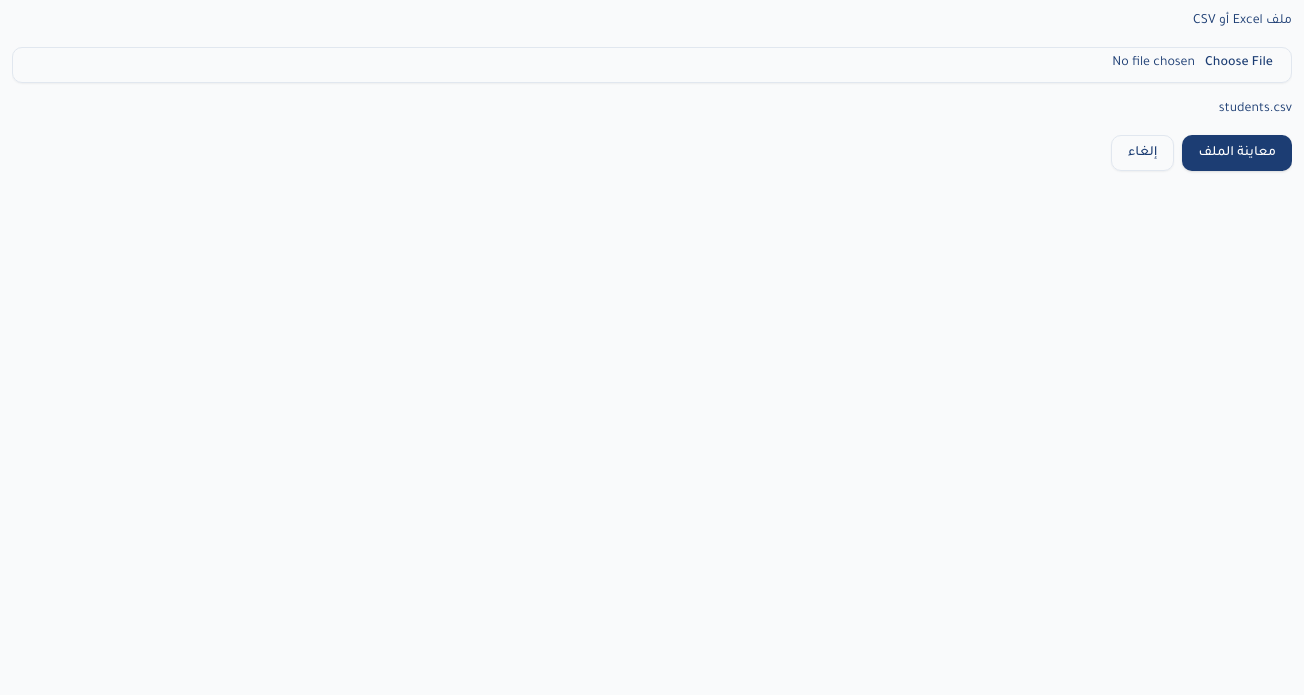
Test: mandatory external import review › Arabic review is RTL with explicit Arabic confirmation
Earlier steps of the test are not shown.
Click the button "معاينة الملف" at (1237, 153), box [1182,135,1292,171]
(page scrolled)
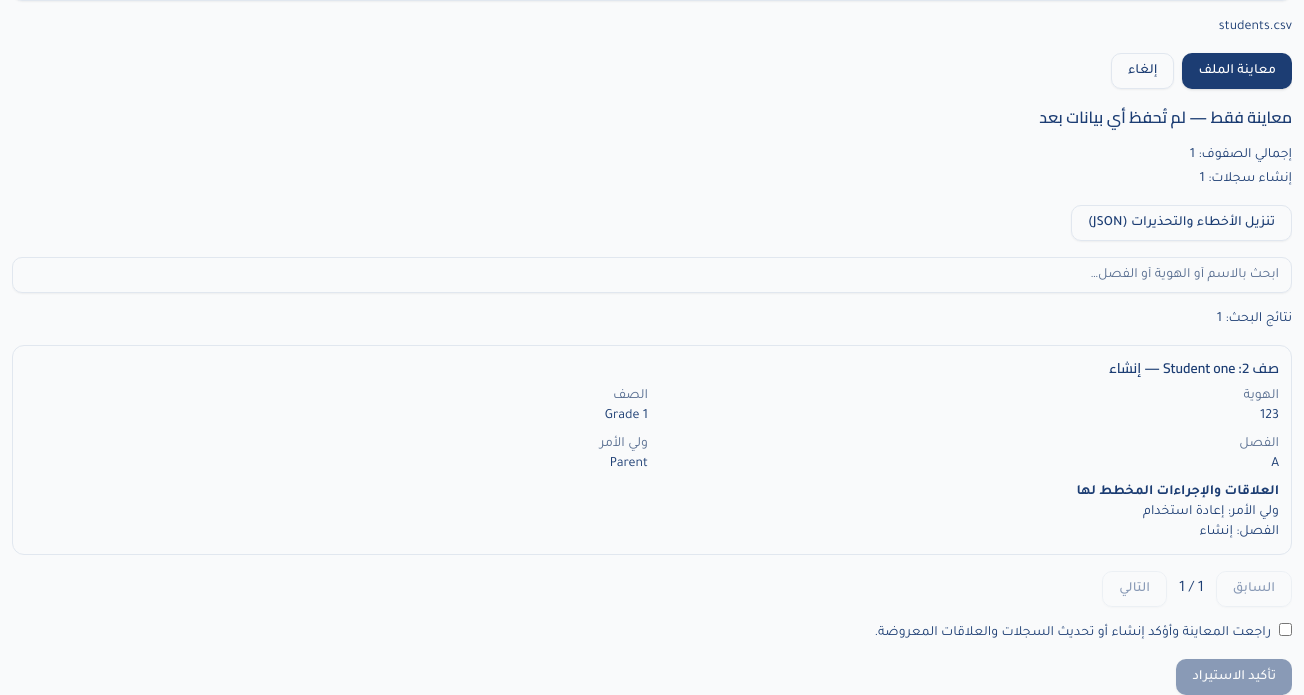
expect the heading "معاينة فقط — لم تُحفظ أي بيانات بعد" is shown: met, box [1039,102,1292,132]
expect the button "تأكيد الاستيراد" is disabled: met, box [1176,659,1292,694]
